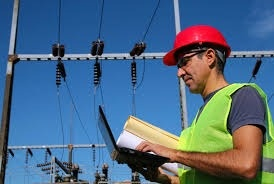helmet: (160, 25, 236, 68)
person with full safety: (160, 24, 271, 178)
safety vest: (178, 90, 268, 176)
